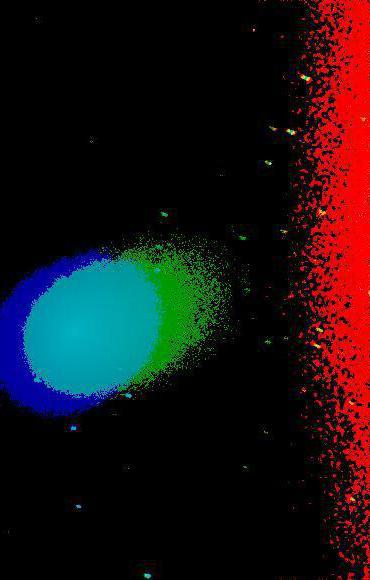star: (97, 530, 127, 560)
